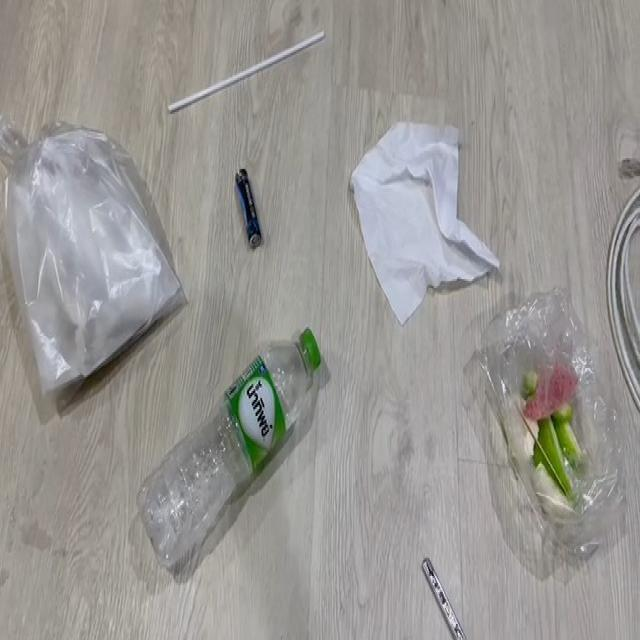Anorganik: (10, 113, 179, 370), (158, 351, 356, 551), (362, 100, 500, 324), (181, 38, 342, 104), (412, 546, 474, 640)
B3: (486, 316, 631, 555), (599, 168, 640, 406), (234, 155, 268, 260)
